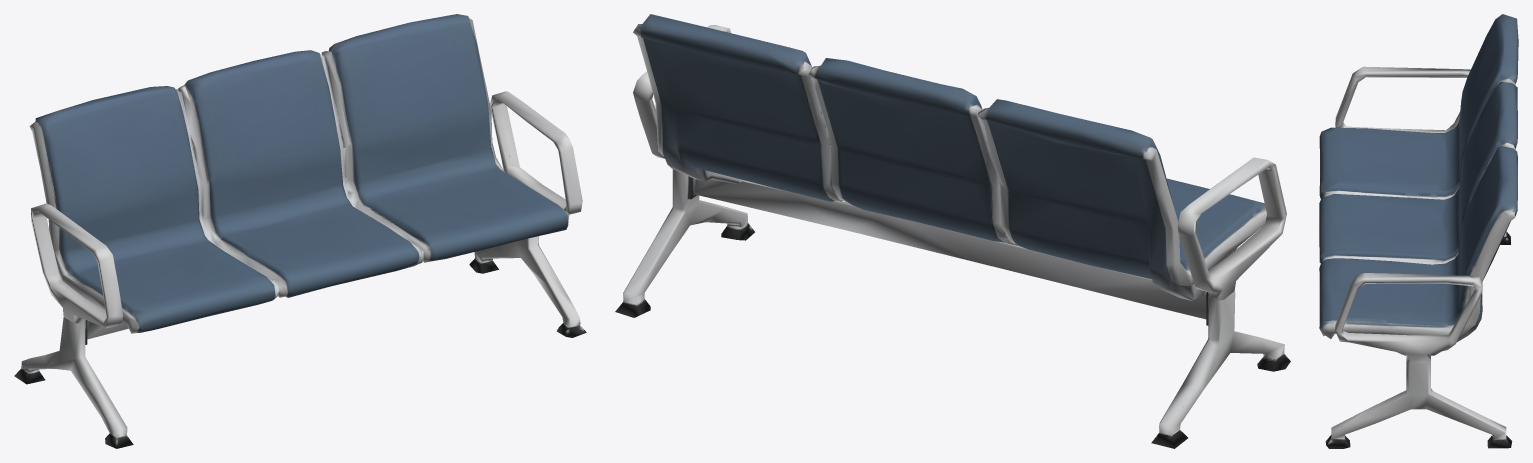
Rendered from ENV_ALL_021_v001_RAW.glb.glb.
The picture shows the model from 3 angles, left to right: view 1: azimuth 30°, elevation 25°; view 2: azimuth 150°, elevation 25°; view 3: azimuth 270°, elevation 25°; orthographic projection. The views are drawn at different scales.
Parts seen in each view (by area): view 1: tripo_node_2b533395-8596-4187-b3e2-c4986c32ecea; view 2: tripo_node_2b533395-8596-4187-b3e2-c4986c32ecea; view 3: tripo_node_2b533395-8596-4187-b3e2-c4986c32ecea.
Boxes of the visible parts, bbox=[...] form: tripo_node_2b533395-8596-4187-b3e2-c4986c32ecea: bbox=[14, 14, 586, 448]; tripo_node_2b533395-8596-4187-b3e2-c4986c32ecea: bbox=[615, 14, 1290, 448]; tripo_node_2b533395-8596-4187-b3e2-c4986c32ecea: bbox=[1319, 14, 1518, 448].
Size of the model in its own units: 0.9786 by 0.5054 by 0.3866.
1 material, 1 textured.
